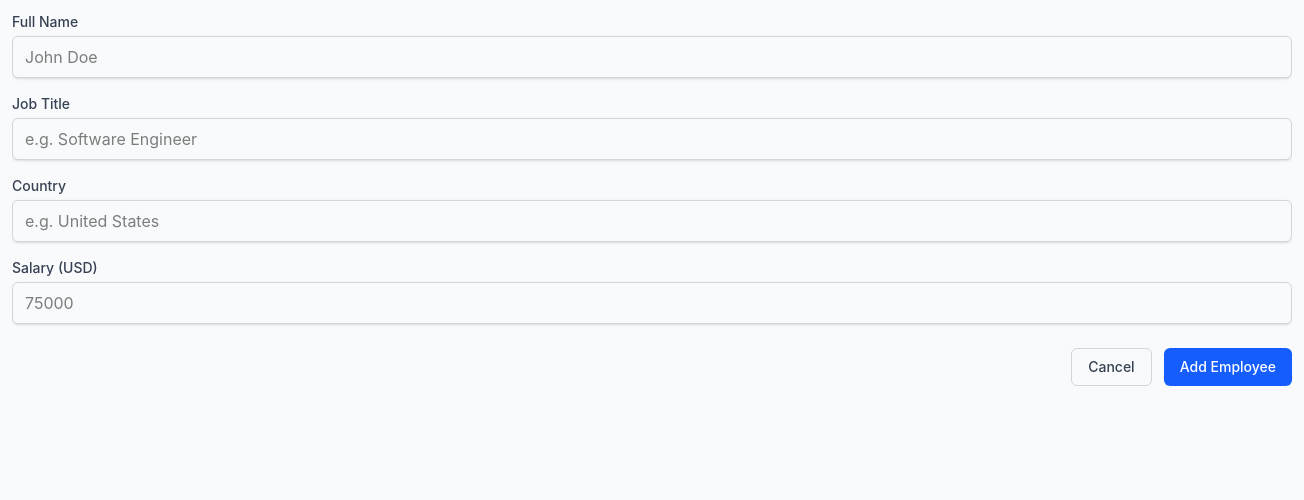
Test: EmployeeForm › shows validation errors for empty form
Check: the field labelled "Full Name" is shown, box x1=12 y1=36 x2=1292 y2=78
Click the button "Add Employee".
click(1228, 367)  # box x1=1164 y1=348 x2=1292 y2=386
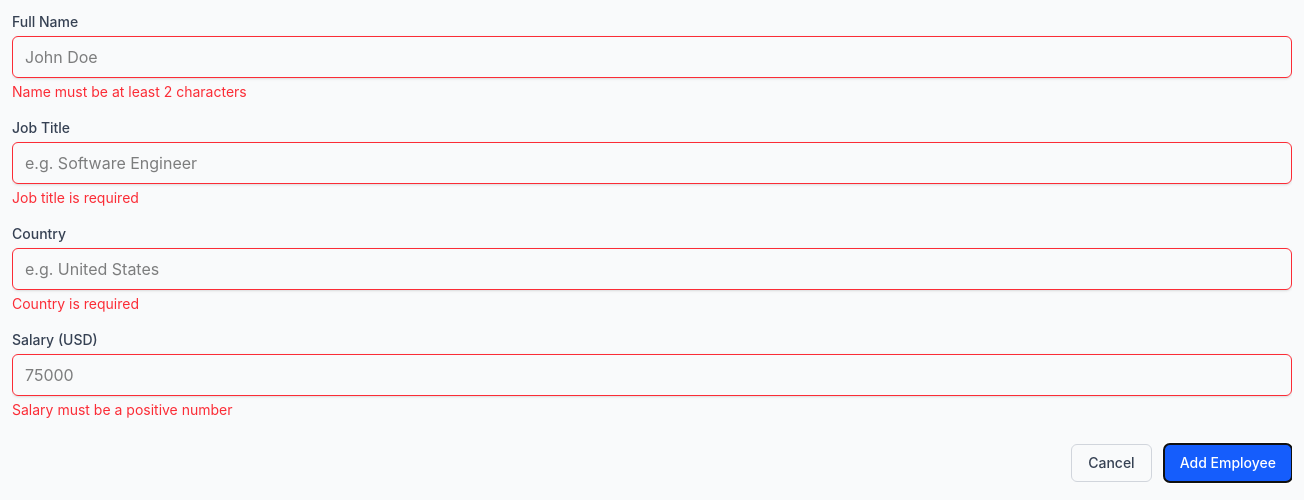
Check: the text "Name must be at least 2 characters" is shown, box x1=12 y1=83 x2=247 y2=100
